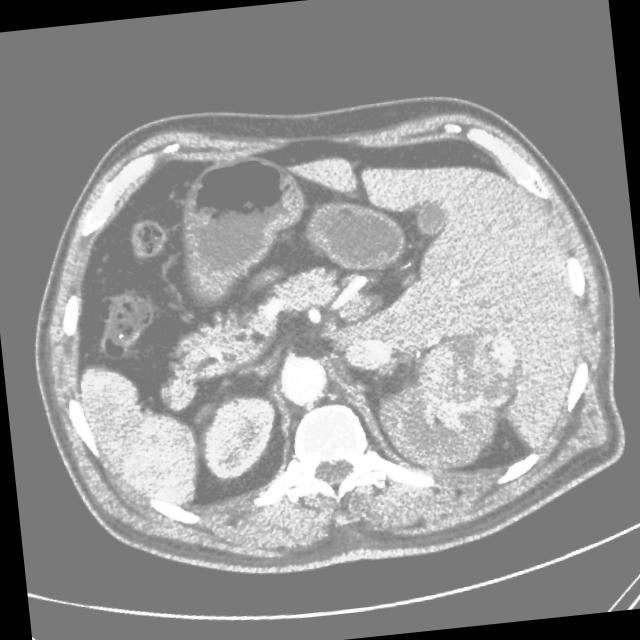TUMOR: (151, 152, 468, 399)
